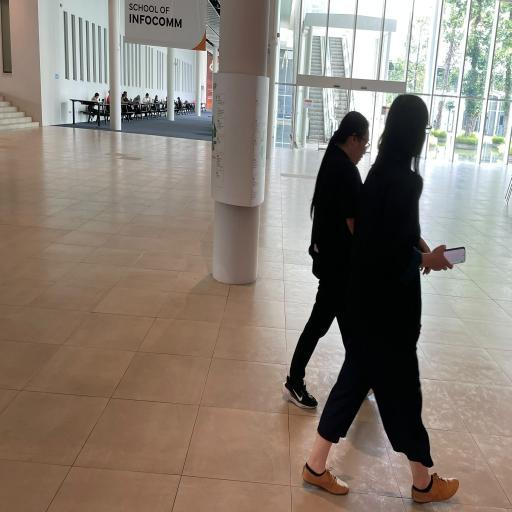person_right: (302, 95, 459, 502), (281, 104, 373, 408)
